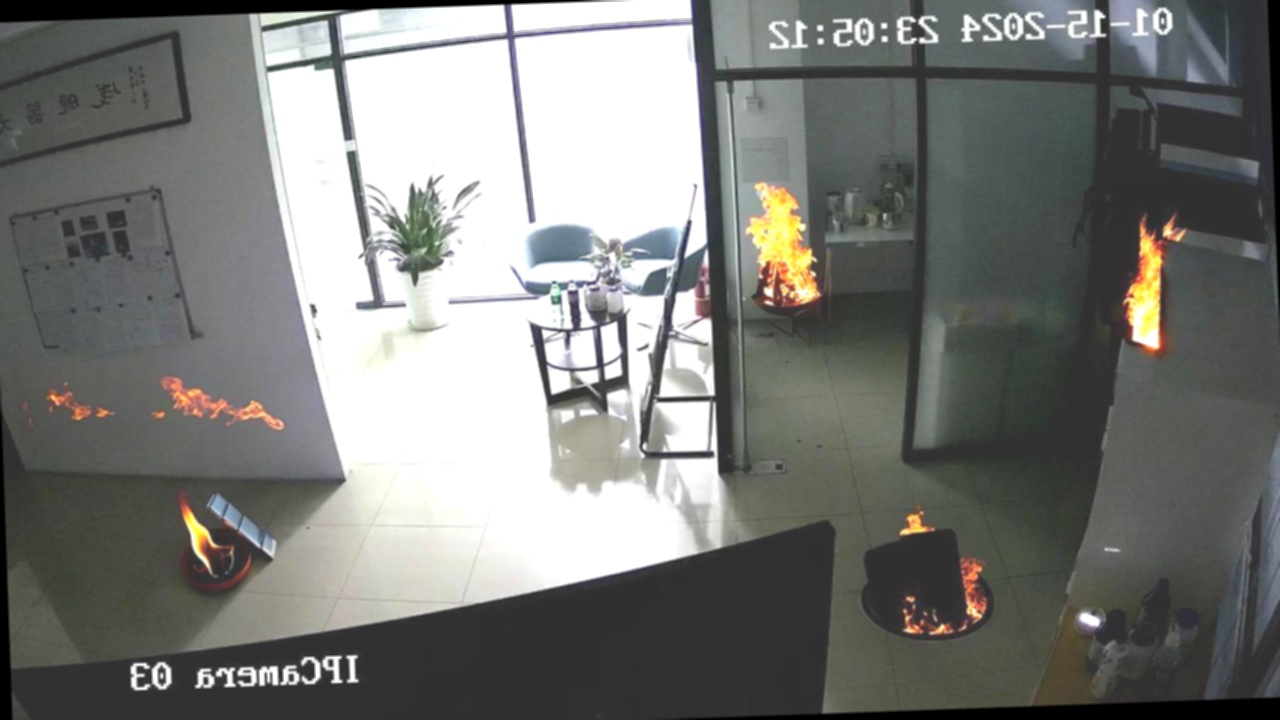fire: (39, 359, 291, 448), (862, 514, 993, 668), (709, 170, 823, 340), (1093, 201, 1193, 370), (174, 485, 235, 613)
